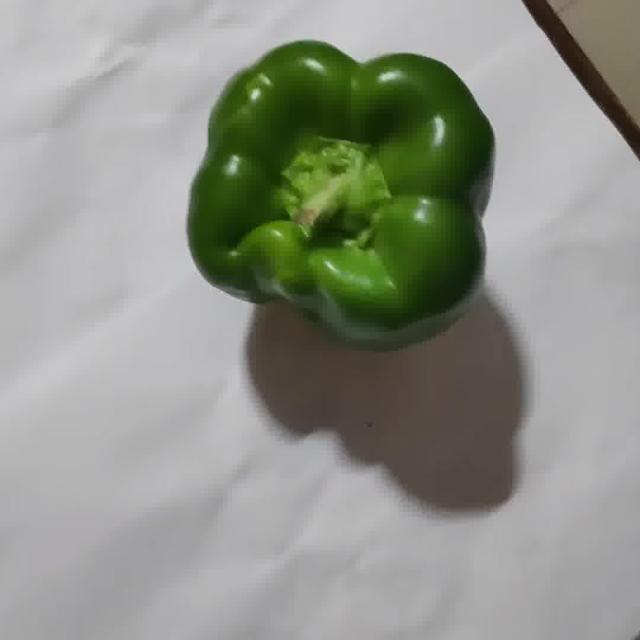Bell Pepper: (188, 41, 494, 345)
